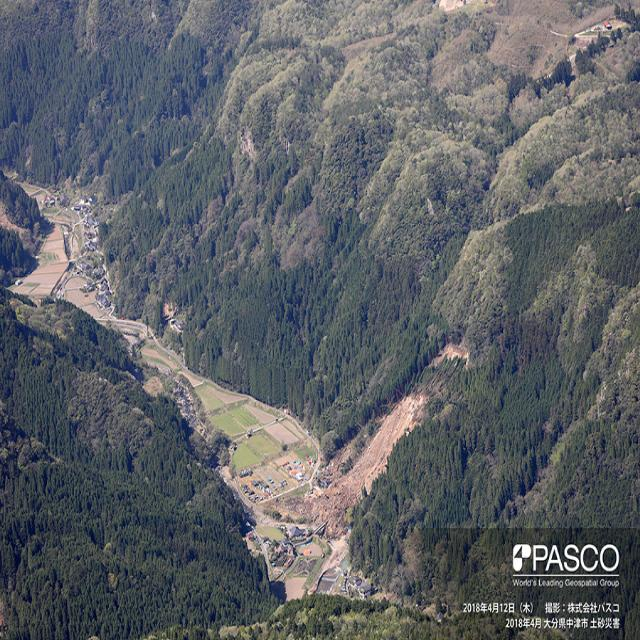Debris-flow: (340, 394, 428, 498), (432, 343, 469, 365)
